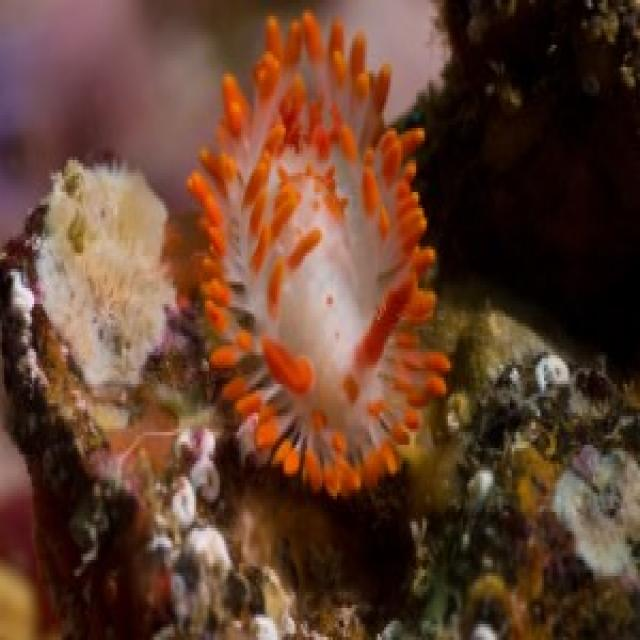Bleached: (37, 161, 176, 385)
Healthy: (189, 14, 449, 494)
